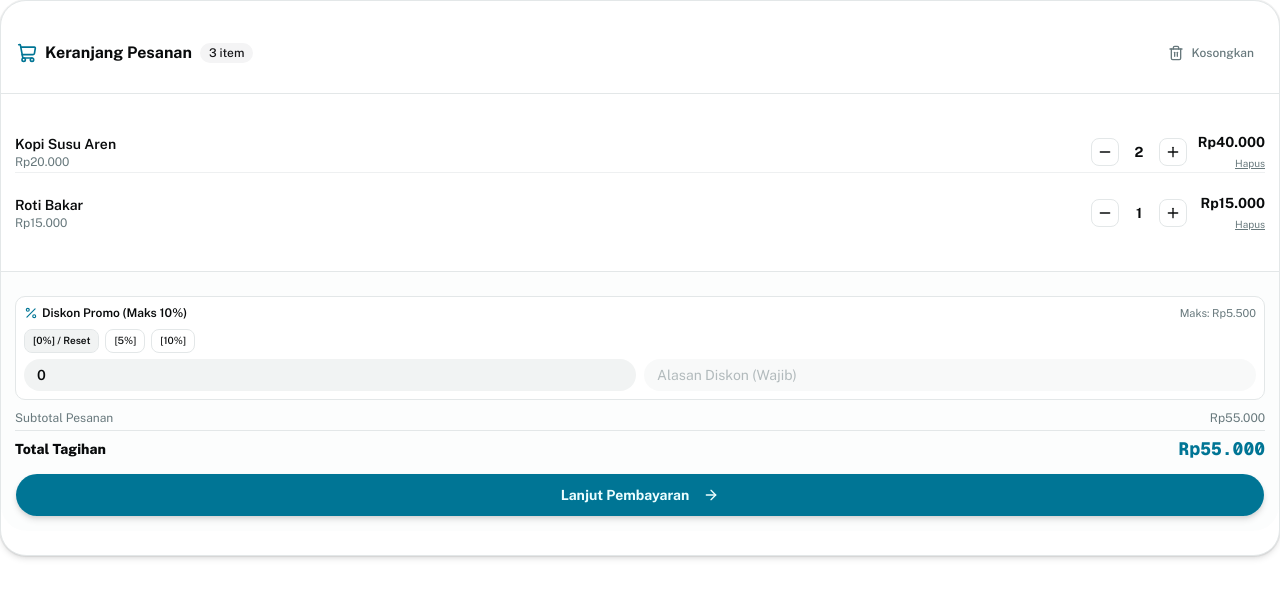
Test case: CartPanel Quick Discount Presets (BR-05) › calculates 5% discount (Math.floor(0.05 * subtotal)) and auto-fills reason when [5%] is clicked
The width and height of the screenshot is (1280, 597).
Click the button "[5%]" at x=125, y=341, box [105,329,145,353]
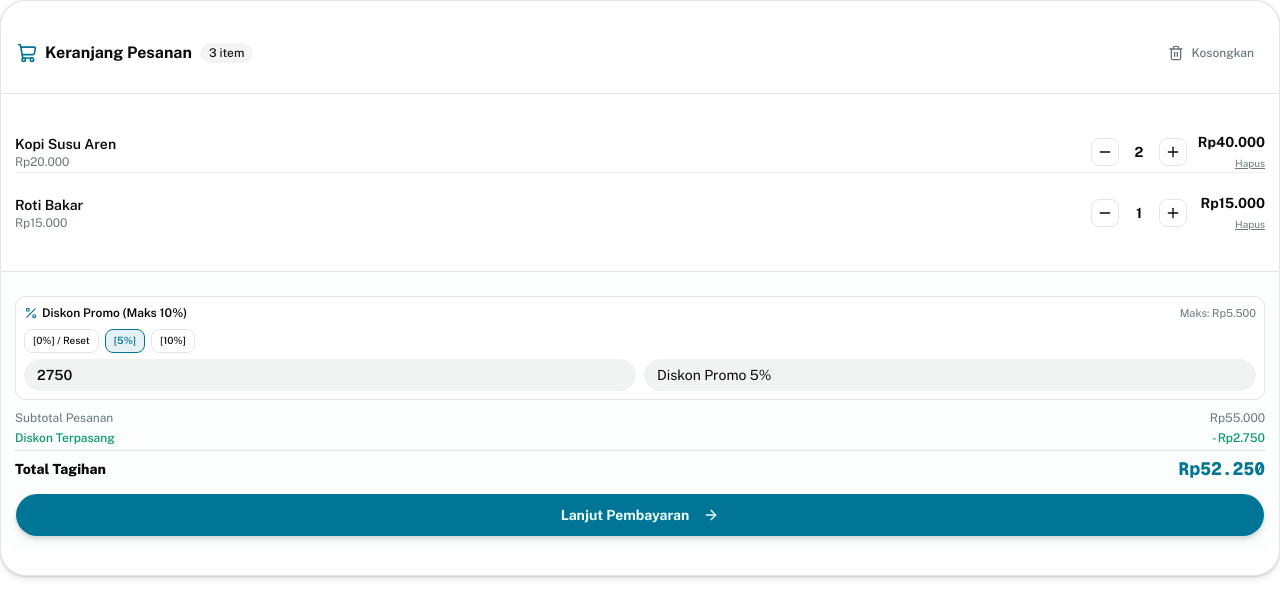
Result: the number field with placeholder "Nominal Rp" holds "2750" at [24,359,636,391]
Result: the field with placeholder "Alasan Diskon (Wajib)" holds "Diskon Promo 5%" at [644,359,1256,391]
